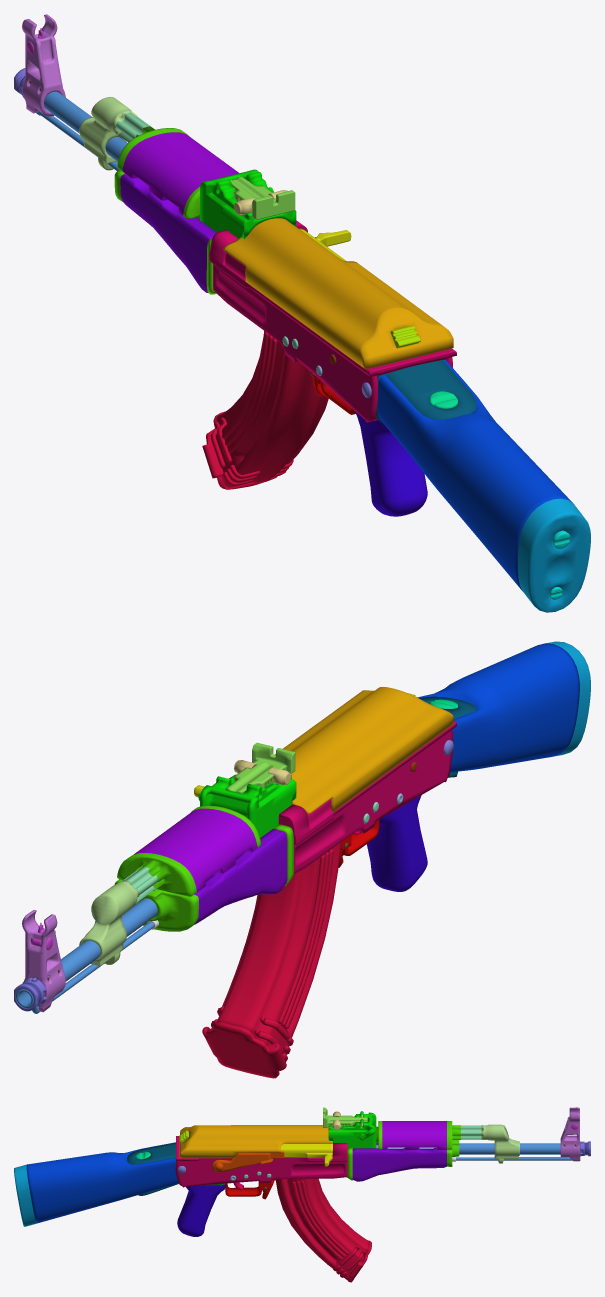
The picture shows the model from 3 angles, top to bottom: view 1: azimuth 30°, elevation 25°; view 2: azimuth 150°, elevation 25°; view 3: azimuth 270°, elevation 25°; orthographic projection. The views are drawn at different scales.
Parts seen in each view (by area): view 1: dx22_box_magazine_LW; view 2: dx22_box_magazine_LW; view 3: dx22_box_magazine_LW.
Part boxes in pixels (left/top/right/bottom): dx22_box_magazine_LW: left=14, top=14, right=590, bottom=612; dx22_box_magazine_LW: left=14, top=641, right=590, bottom=1078; dx22_box_magazine_LW: left=14, top=1107, right=590, bottom=1282.
Size of the model in its own units: 25.25 by 61.99 by 195.
